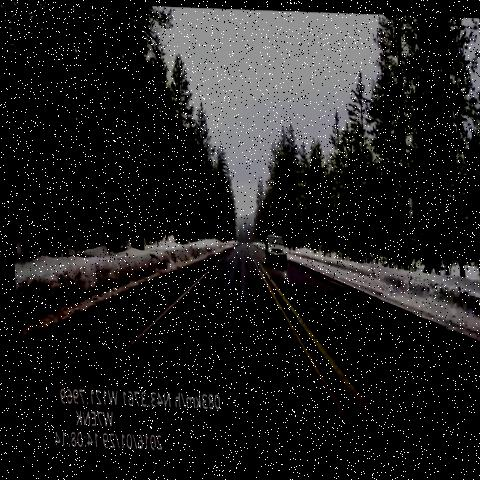pothole: (302, 295, 351, 346), (235, 293, 264, 320), (239, 255, 252, 271)
